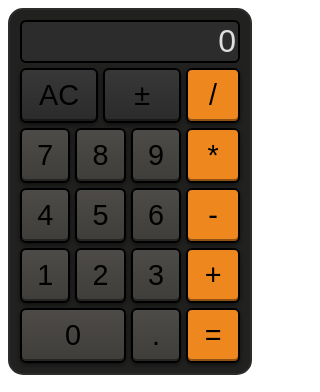
it: Click number button => number appears in result field › Click button '1'
Step 1. Click the button with test id "Button-1" → (45, 276), box [20, 248, 70, 303]
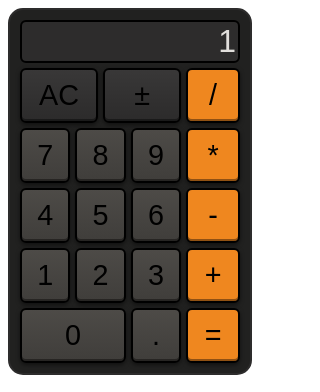
Expected: the field with test id "result-field" holds "1", [20, 20, 240, 63]
